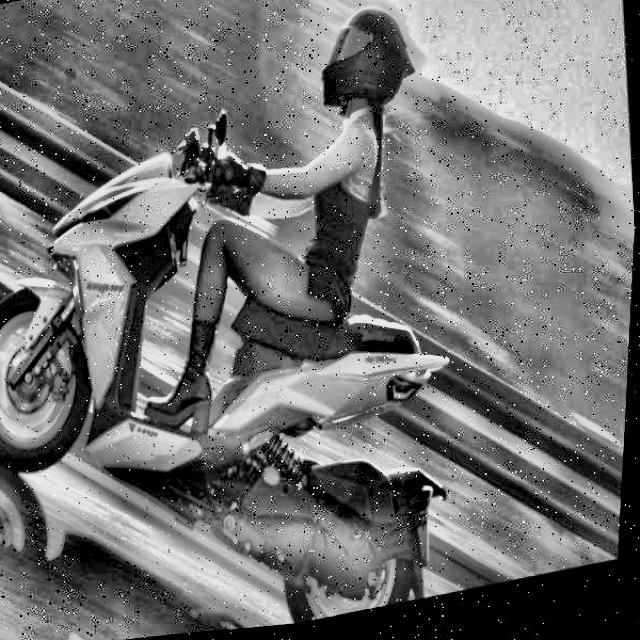Helmet: (307, 0, 429, 138)
